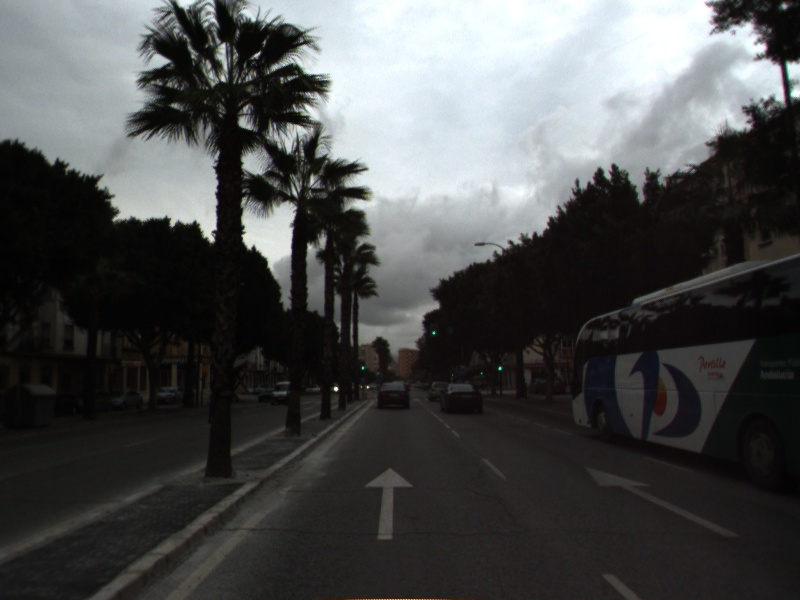STRAIGHT: (583, 465, 742, 540), (361, 465, 416, 542)
